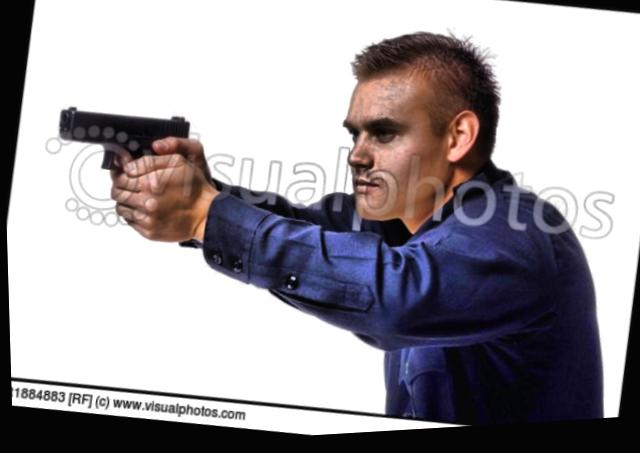pistol: (51, 98, 194, 190)
